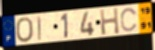1: (60, 12, 69, 40)
4: (79, 11, 96, 37)
C: (120, 7, 139, 33)
H: (99, 6, 121, 36)
I: (36, 15, 42, 42)
O: (15, 17, 35, 44)
